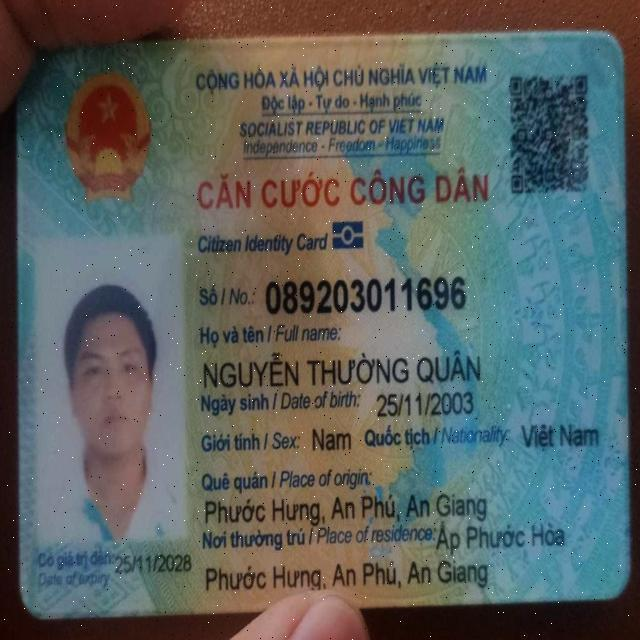current_place: (202, 558, 490, 594), (434, 518, 565, 556)
dob: (373, 387, 477, 420)
expire_date: (111, 551, 193, 577)
gender: (308, 423, 354, 454)
id: (262, 271, 468, 319)
name: (196, 349, 481, 387)
nationality: (517, 423, 601, 451)
origin_place: (201, 490, 489, 525)
